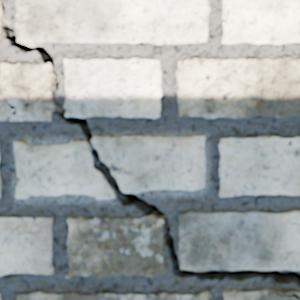brick: (15, 0, 209, 43), (176, 57, 299, 118), (178, 211, 299, 270), (66, 217, 166, 277), (64, 58, 161, 117), (219, 136, 299, 196), (223, 0, 299, 43), (0, 218, 53, 275), (0, 63, 53, 120), (17, 291, 180, 299), (224, 288, 295, 299), (183, 291, 210, 299), (278, 289, 299, 295), (0, 179, 1, 196)
broken_brick: (93, 135, 206, 194), (13, 140, 115, 199)
crack: (0, 0, 299, 287), (0, 84, 17, 115), (274, 288, 299, 299), (286, 56, 299, 63), (0, 62, 2, 79), (179, 294, 183, 299)
